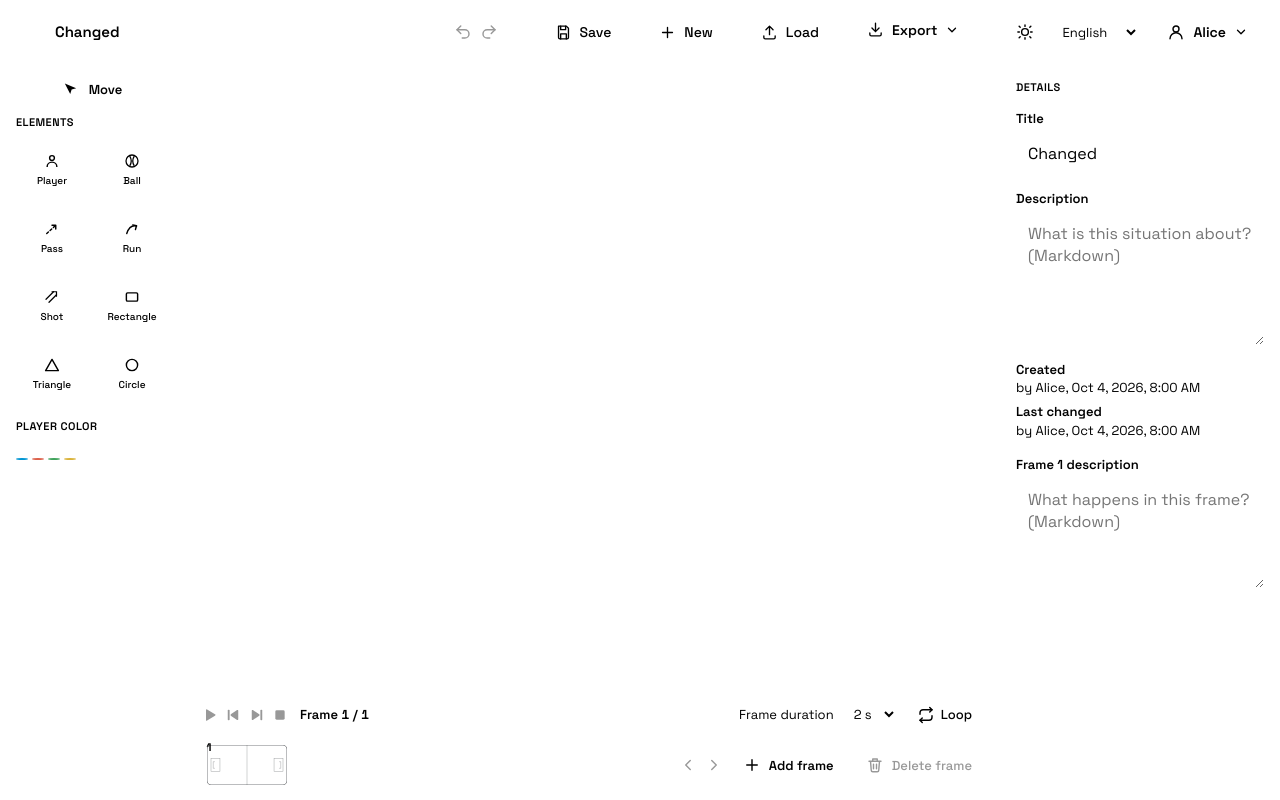
editor page: saving on the server › a team situation › a demoted editor's save fails with a worded 403
The image size is (1280, 800).
Click the button "Save".
click(583, 32)  # box [538,23,627,41]
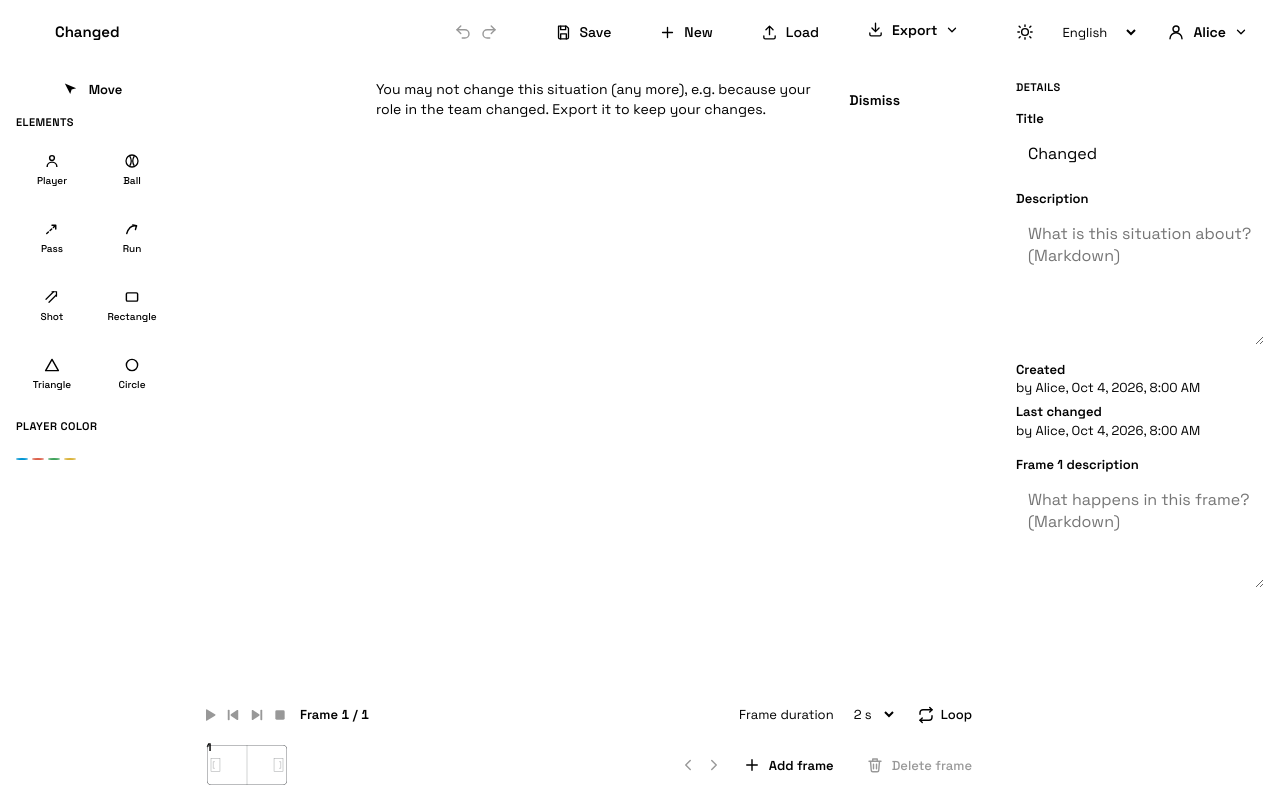
Check: the message shows "You may not change this situation (any more), e.g. because your role in the team changed.", box [376,80,811,118]
